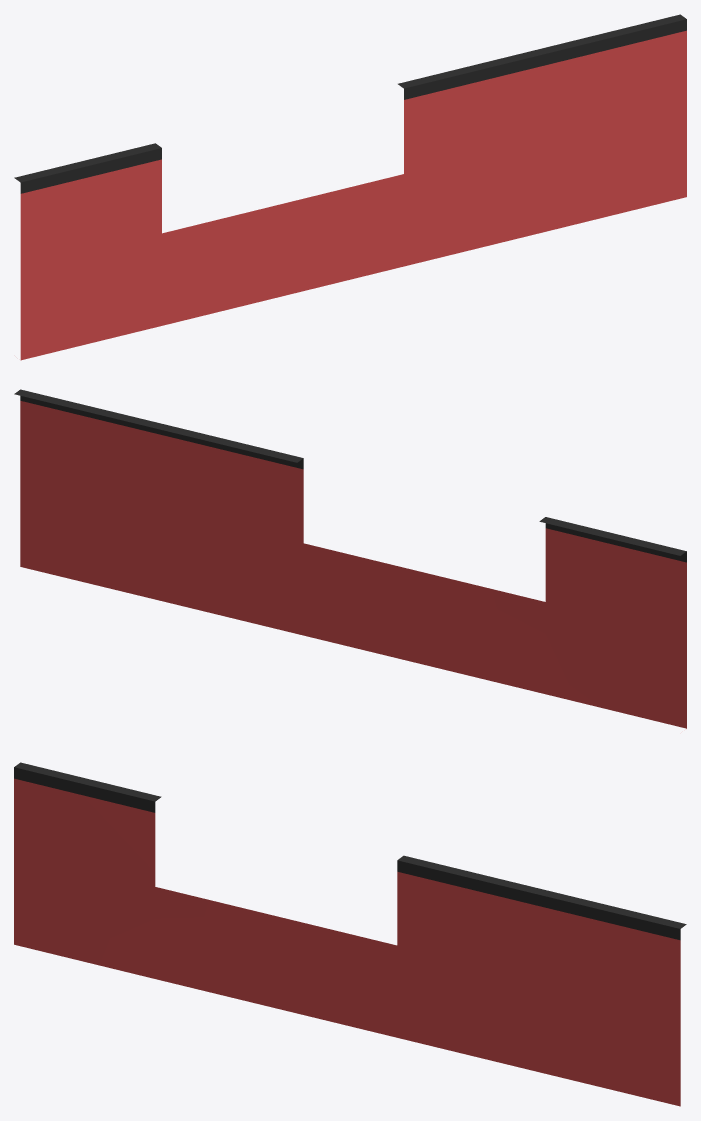
The model's file is sm_building_redline03_01.fbx.
3 renders of one model, top to bottom at view 1: azimuth 30°, elevation 25°; view 2: azimuth 150°, elevation 25°; view 3: azimuth 330°, elevation 25°, orthographic.
Parts seen in each view (by area): view 1: WB1_Wall_W1D32H1__6__8.006; view 2: WB1_Wall_W1D32H1__6__8.006; view 3: WB1_Wall_W1D32H1__6__8.006.
Part boxes in pixels (x1,y1,x2,y2): WB1_Wall_W1D32H1__6__8.006: (14,14,686,360); WB1_Wall_W1D32H1__6__8.006: (14,389,686,728); WB1_Wall_W1D32H1__6__8.006: (14,762,686,1106).
Size of the model in its own units: 659 by 168 by 12.5.
